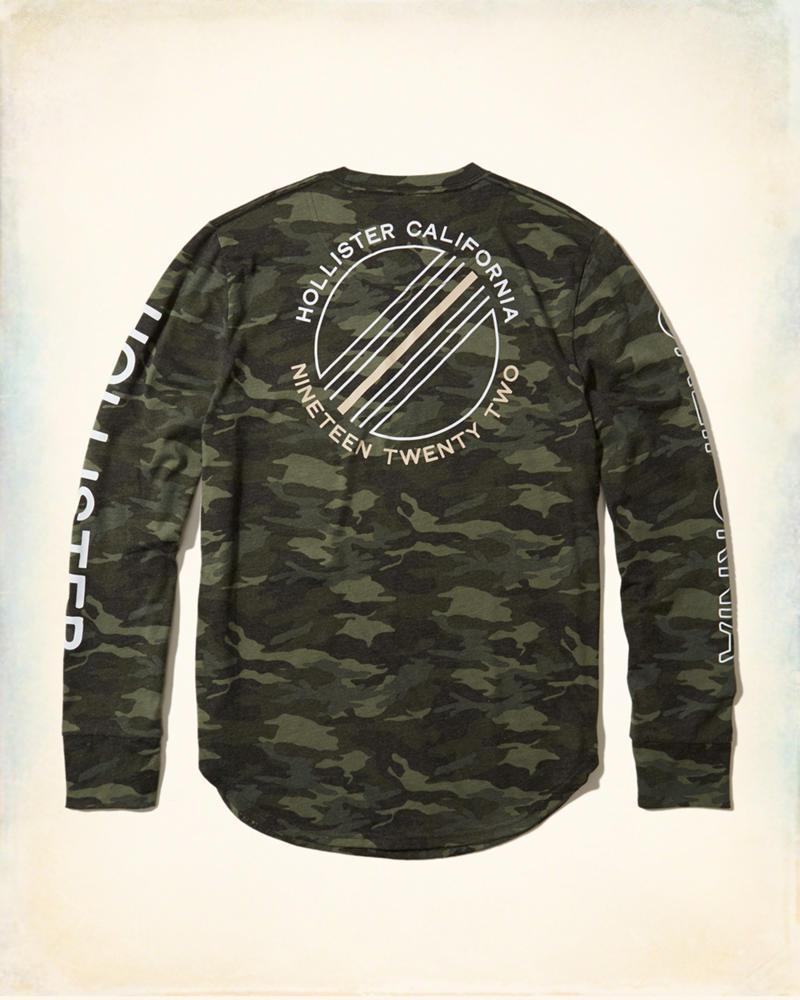teeshirt: (36, 156, 762, 906)
